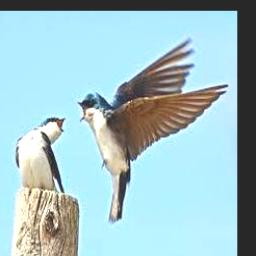Swallow: (77, 38, 228, 225), (15, 116, 65, 193)
